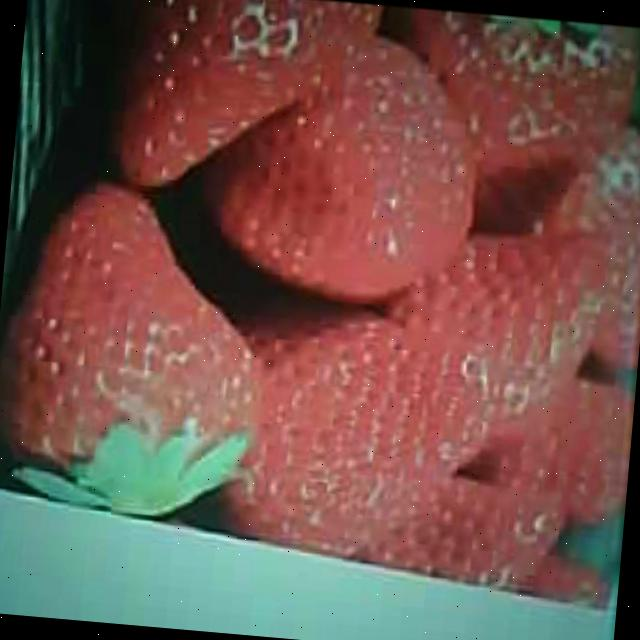strawberry: (0, 180, 276, 517)
